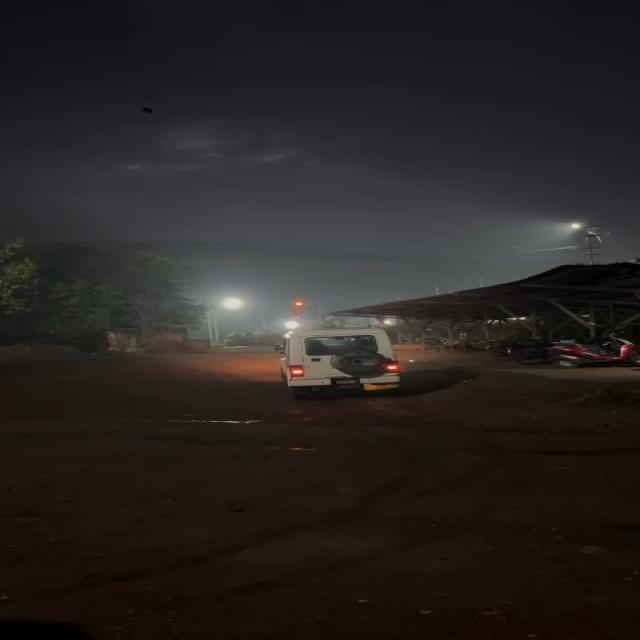light_vehicle: (276, 329, 413, 394)
